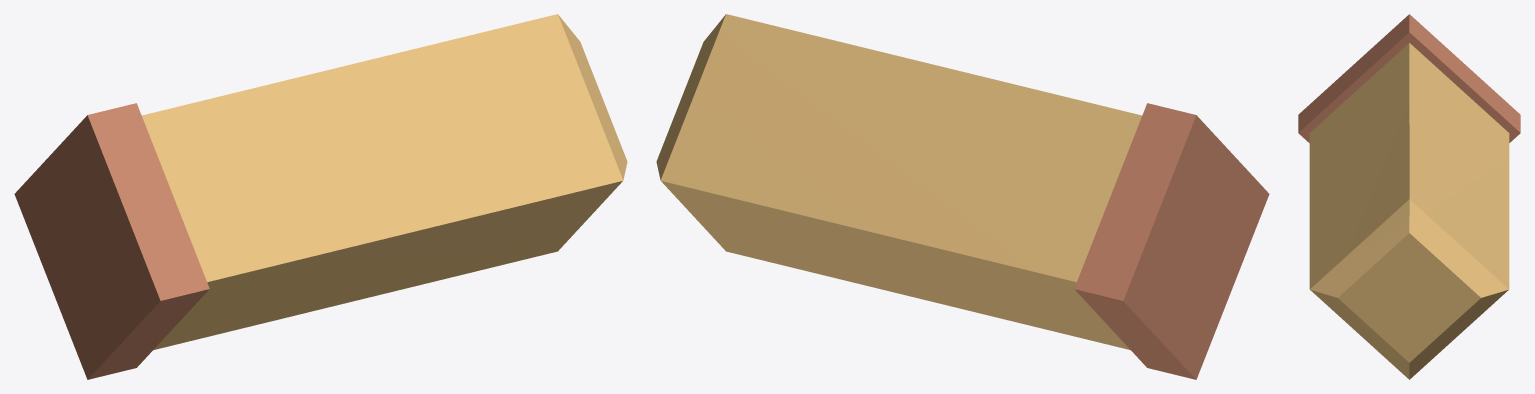
The model's file is bullet-shotgun.glb.
3 renders of one model, left to right at view 1: azimuth 30°, elevation 25°; view 2: azimuth 150°, elevation 25°; view 3: azimuth 270°, elevation 25°, orthographic. The views are drawn at different scales.
Visible parts, largest first — view 1: bullet-shotgun; view 2: bullet-shotgun; view 3: bullet-shotgun.
Boxes of the visible parts, left/top/right/bottom form: bullet-shotgun: left=14, top=14, right=627, bottom=379; bullet-shotgun: left=656, top=14, right=1269, bottom=379; bullet-shotgun: left=1298, top=14, right=1520, bottom=379.
Size of the model in its own units: 0.02 by 0.0103 by 0.0103.
